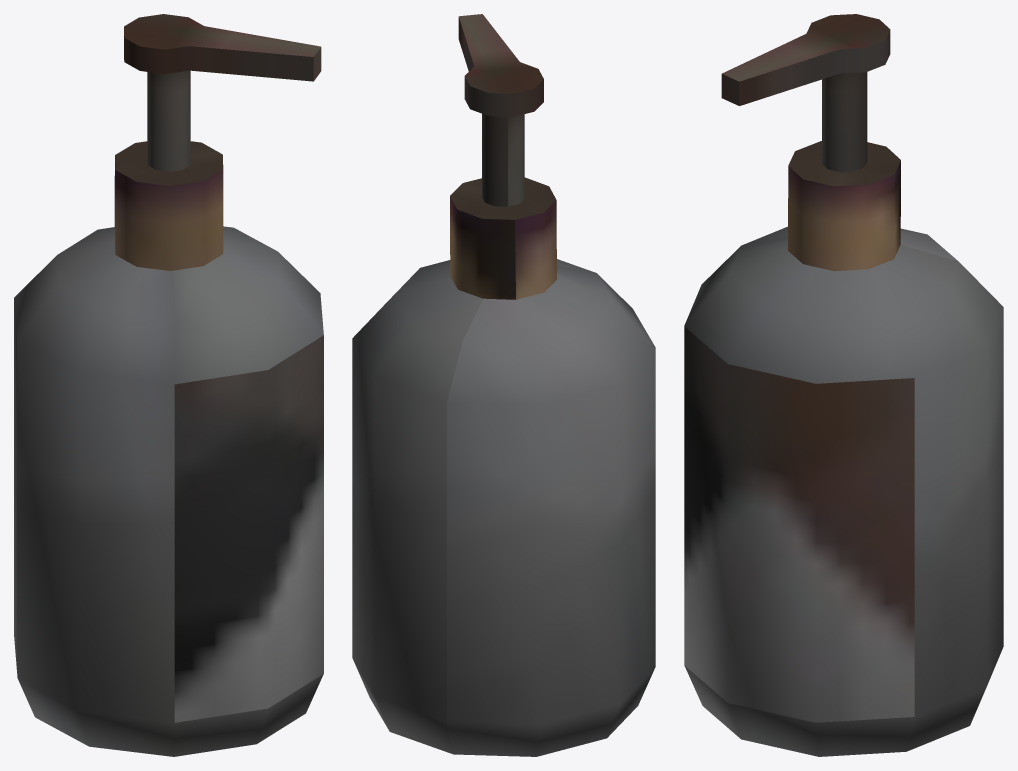
The model's file is Handwash.FBX.
The picture shows the model from 3 angles, left to right: view 1: azimuth 30°, elevation 25°; view 2: azimuth 150°, elevation 25°; view 3: azimuth 270°, elevation 25°; orthographic projection. The views are drawn at different scales.
Parts seen in each view (by area): view 1: Handwash; view 2: Handwash; view 3: Handwash.
Part boxes in pixels (x1=…): Handwash: x1=14, y1=14, x2=323, y2=756; Handwash: x1=352, y1=14, x2=655, y2=756; Handwash: x1=684, y1=14, x2=1003, y2=756.
Size of the model in its own units: 9.42 by 21.73 by 9.47.
